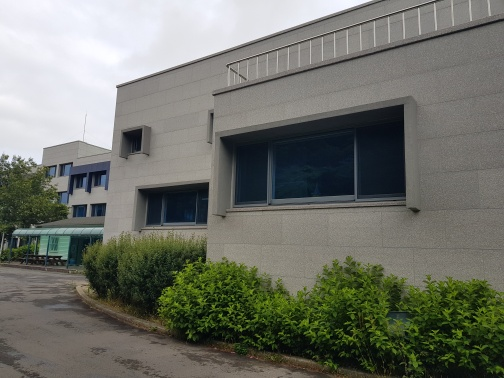College of Social Sciences: (18, 21, 499, 304)
